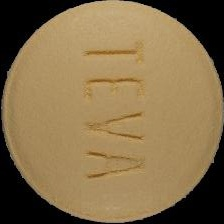63629-5219: (0, 0, 224, 224)
